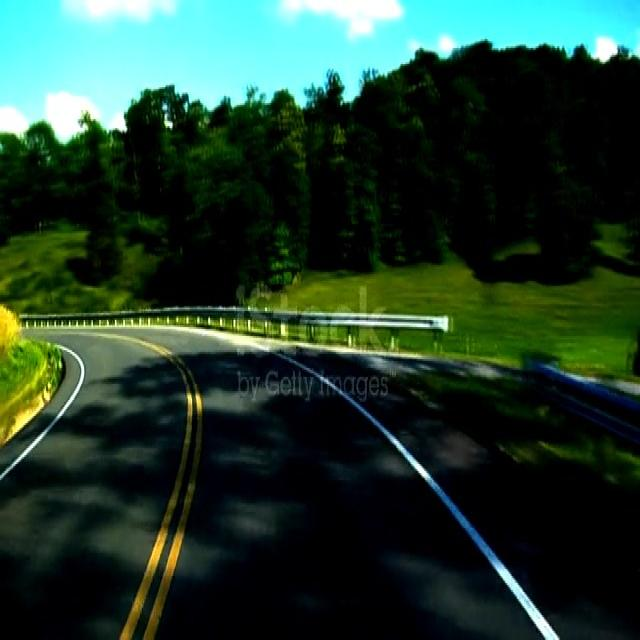lane: (284, 357, 559, 639), (120, 338, 202, 640), (1, 344, 84, 481)
road: (0, 329, 537, 636), (289, 348, 639, 636)
